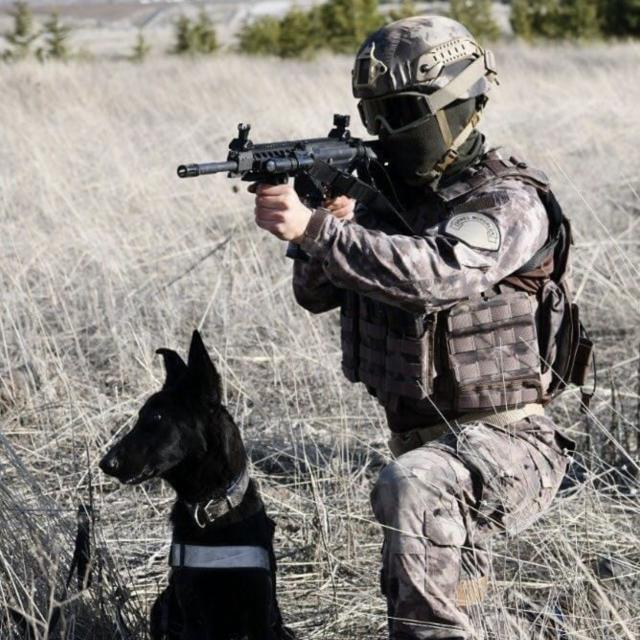poh_personel: (253, 13, 593, 640)
